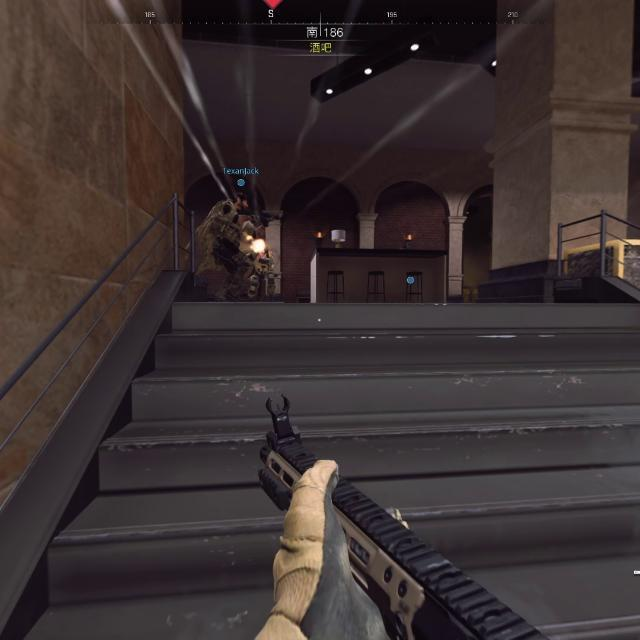MW2_body: (249, 241, 276, 300)
